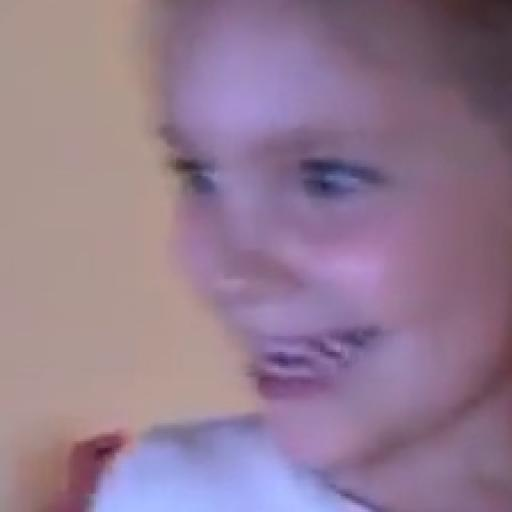Autism: (103, 0, 512, 466)
